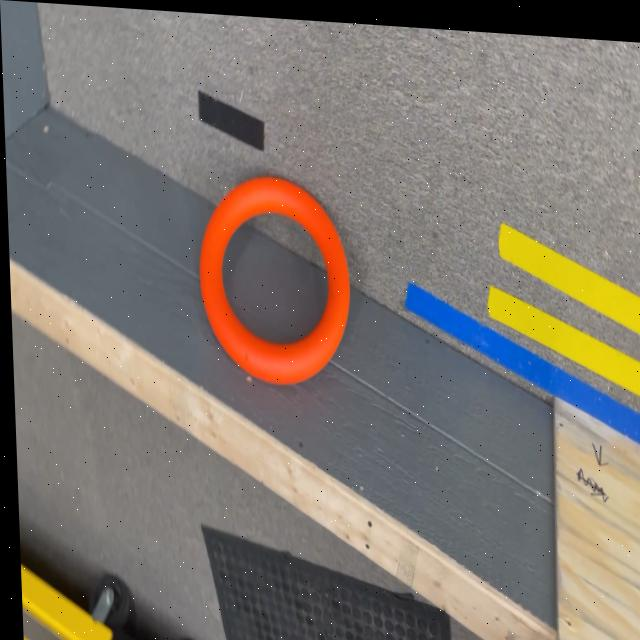note: (193, 168, 351, 383)
